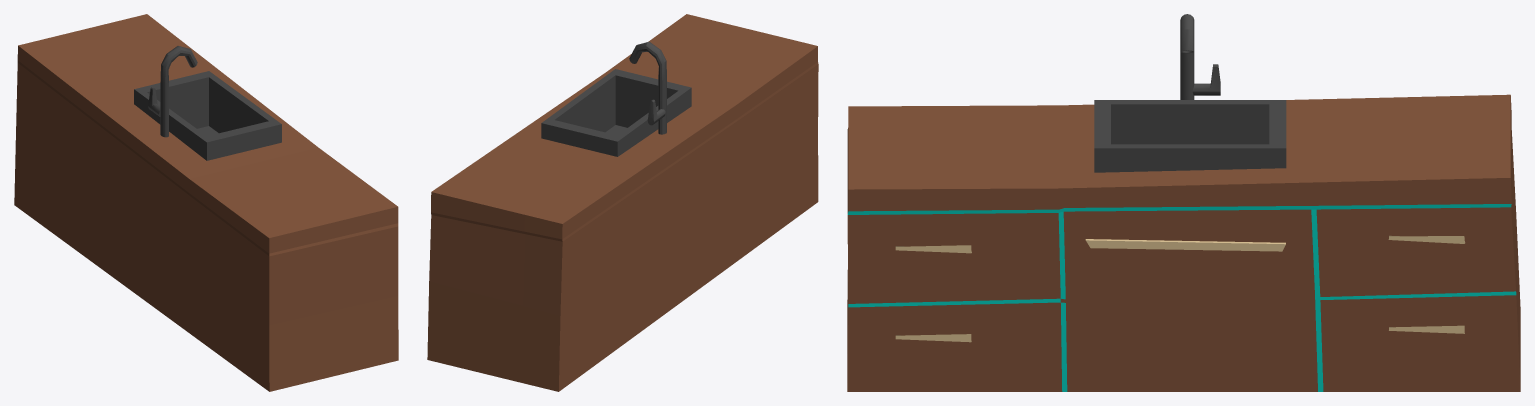
File: cocina_accesorios.fbx
3 renders of one model, left to right at view 1: azimuth 30°, elevation 25°; view 2: azimuth 150°, elevation 25°; view 3: azimuth 270°, elevation 25°, orthographic. The views are drawn at different scales.
Visible parts, largest first — view 1: mueble2.001, grifo.001; view 2: mueble2.001, grifo.001; view 3: mueble2.001, grifo.001.
Boxes of the visible parts, <box> form: mueble2.001: <box>14,14,398,391</box>; grifo.001: <box>134,46,281,160</box>; mueble2.001: <box>427,14,818,391</box>; grifo.001: <box>541,41,691,156</box>; mueble2.001: <box>847,94,1520,391</box>; grifo.001: <box>1094,14,1286,172</box>.
Bounding box in the file's own units: 3.65 × 6.39 × 12.21.
